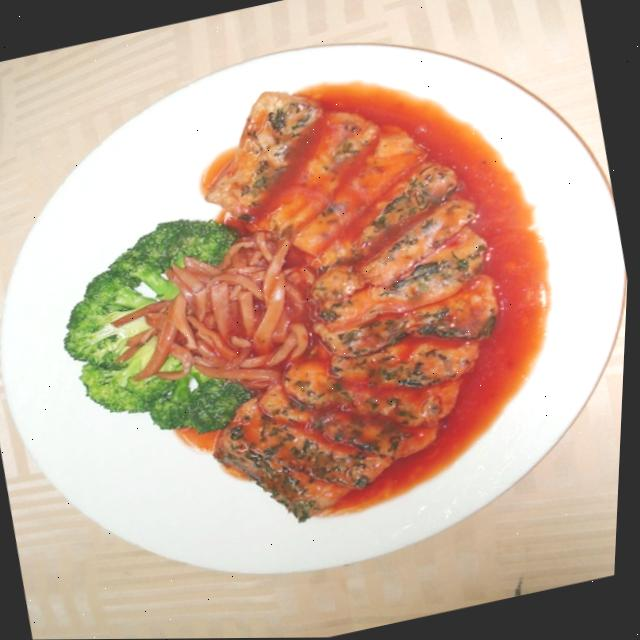豆腐料理: (0, 0, 640, 613)
